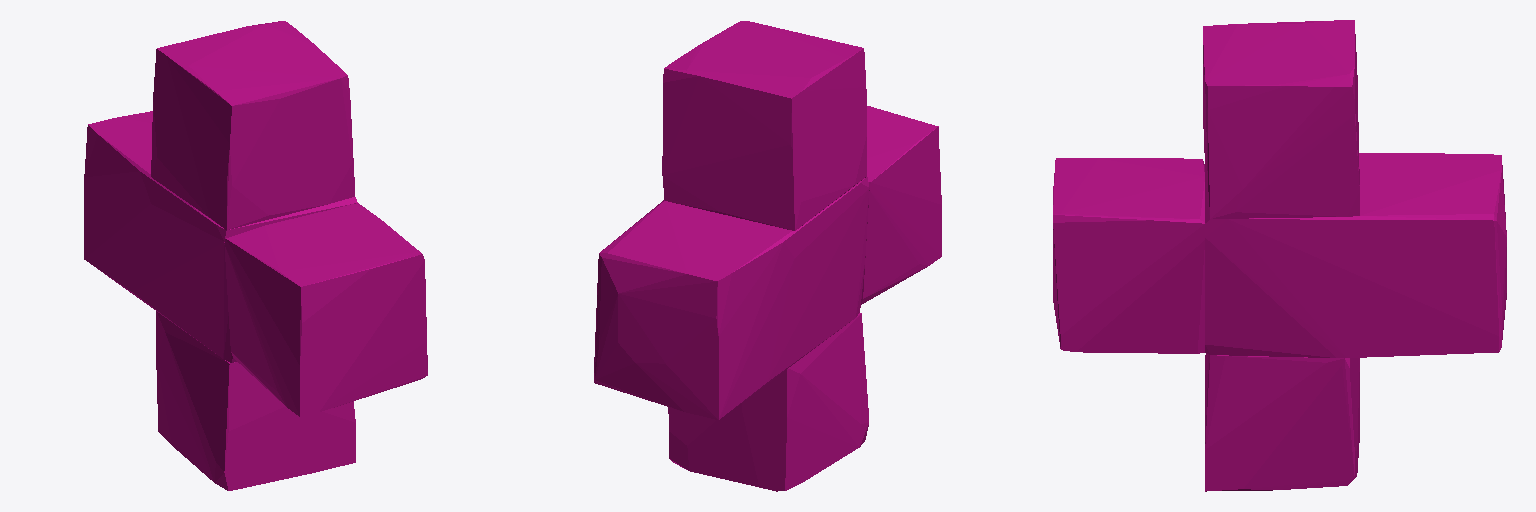
URDF robot description (blob250):
<robot name="blob250">
  <link name="random_obj_250">
    <contact>
      <lateral_friction value="1.0"/>
      <rolling_friction value="0.0"/>
      <inertia_scaling value="3.0"/>
      <contact_cfm value="0.0"/>
      <contact_erp value="1.0"/>
    </contact>
    <inertial>
      <origin rpy="0 0 0" xyz="0 0 0"/>
      <mass value="0.1"/>
      <inertia ixx="1" ixy="0" ixz="0" iyy="1" iyz="0" izz="0"/>
    </inertial>
    <visual>
      <origin rpy="0 0 0" xyz="0 0 0"/>
      <geometry>
        <mesh filename="250.obj" scale="0.015 0.015 0.015"/>
      </geometry>
      <material name="blockmat">
        <color rgba="0.76 0.11 0.57 1"/>
      </material>
    </visual>
    <collision>
      <origin rpy="0 0 0" xyz="0 0 0"/>
      <geometry>
        <mesh filename="250.obj" scale="0.015 0.015 0.015"/>
      </geometry>
    </collision>
  </link>
</robot>

--- Render facts (derived) ---
The picture shows the robot from 3 angles, left to right: view 1: azimuth 30°, elevation 25°; view 2: azimuth 150°, elevation 25°; view 3: azimuth 270°, elevation 25°; orthographic projection.
Model blob250 with 1 links and 0 joints (none), rooted at random_obj_250, posed all joints at 0.
Visible links, largest first — view 1: random_obj_250; view 2: random_obj_250; view 3: random_obj_250.
Link boxes in pixels (<box>): random_obj_250: <box>84,21,427,490</box>; random_obj_250: <box>594,21,941,491</box>; random_obj_250: <box>1053,20,1506,491</box>.
Size in the robot's own frame: 0.0328 by 0.0932 by 0.0921 metres.
Meshes: 1 distinct files referenced, 1 mesh visuals loaded (1 OBJ).